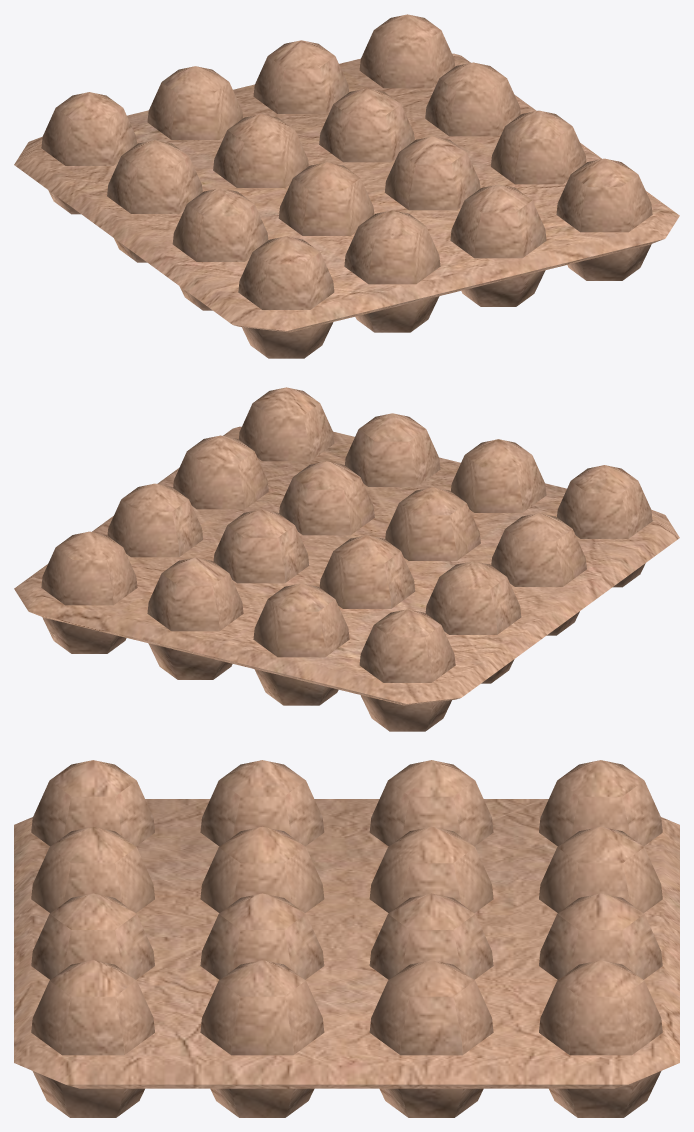
Rendered from Eggs.glb.
3 renders of one model, top to bottom at view 1: azimuth 30°, elevation 25°; view 2: azimuth 150°, elevation 25°; view 3: azimuth 270°, elevation 25°, orthographic. The views are drawn at different scales.
Parts seen in each view (by area): view 1: Eggs; view 2: Eggs; view 3: Eggs.
Part boxes in pixels (box(x1,y1,x2,y2)): Eggs: box(14, 14, 679, 358); Eggs: box(14, 387, 679, 731); Eggs: box(14, 760, 679, 1117).
Bounding box in the file's own units: 0.3639 × 0.0949 × 0.3639.
1 material, 1 textured.
